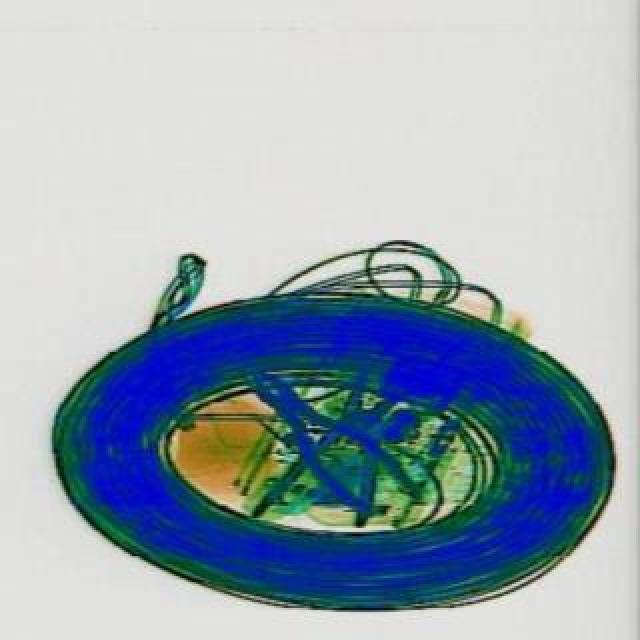wrench: (238, 344, 434, 532), (256, 354, 434, 554)
